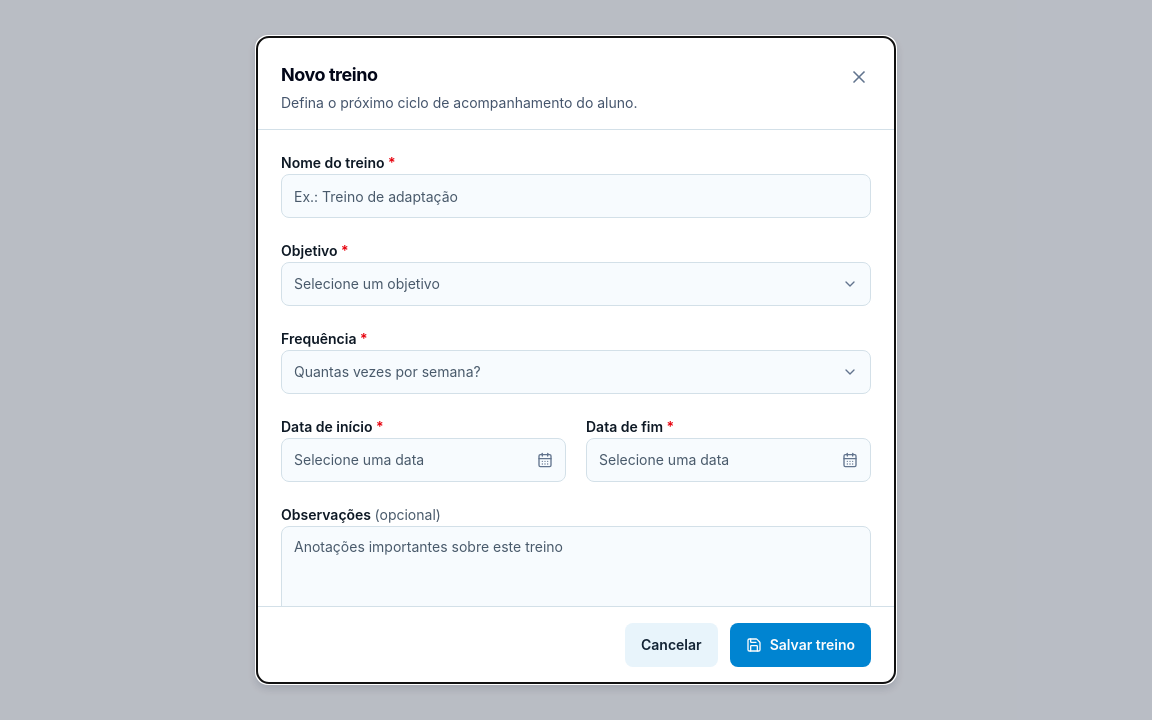
Test case: WorkoutForm › exibe validações para os campos obrigatórios
Click the button "Salvar treino" at (800, 645), box [730, 623, 871, 667]
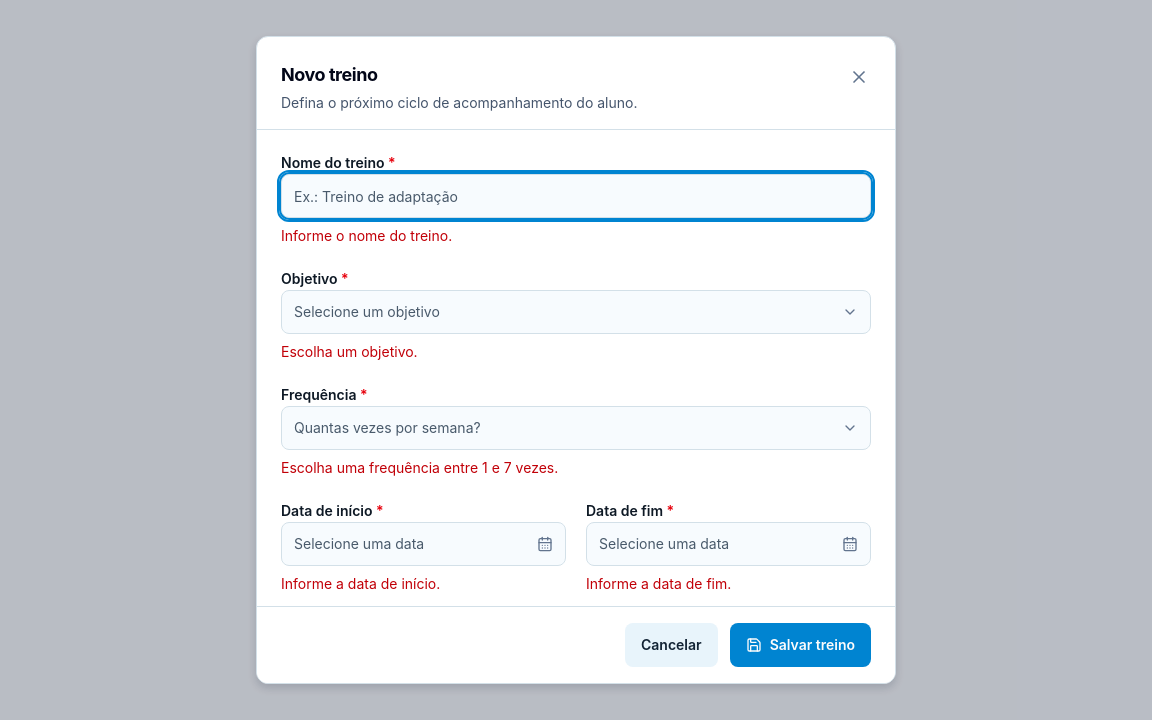
Now the text "Informe o nome do treino." is shown, box [281, 227, 452, 244]
Now the text "Escolha um objetivo." is shown, box [281, 343, 418, 360]
Now the text "Escolha uma frequência entre 1 e 7 vezes." is shown, box [281, 459, 558, 476]
